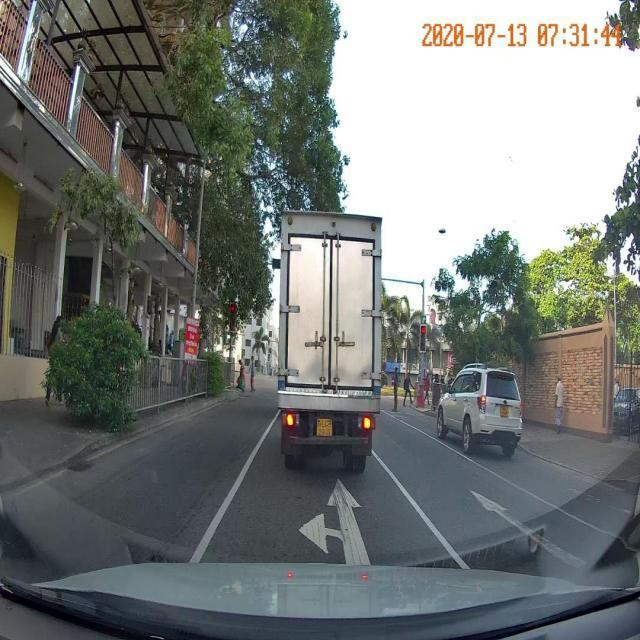Liniya 1: (406, 423, 625, 544), (188, 409, 281, 563), (371, 447, 472, 568)
Strelka vpered: (465, 485, 592, 572)
Strelka vpered - vlevo: (295, 474, 373, 567)
